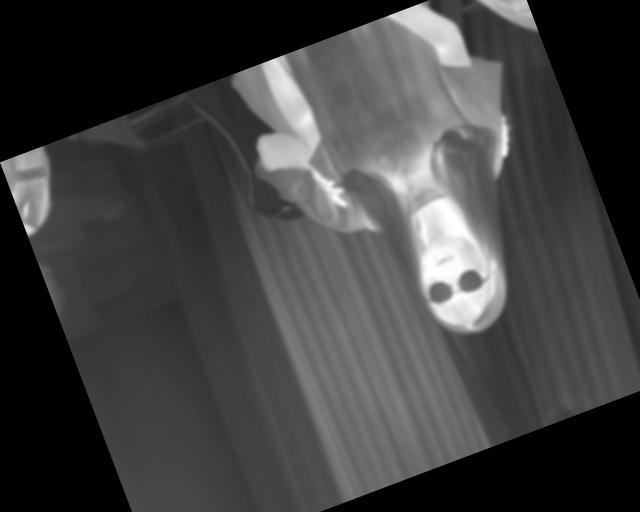face: (404, 217, 517, 347)
